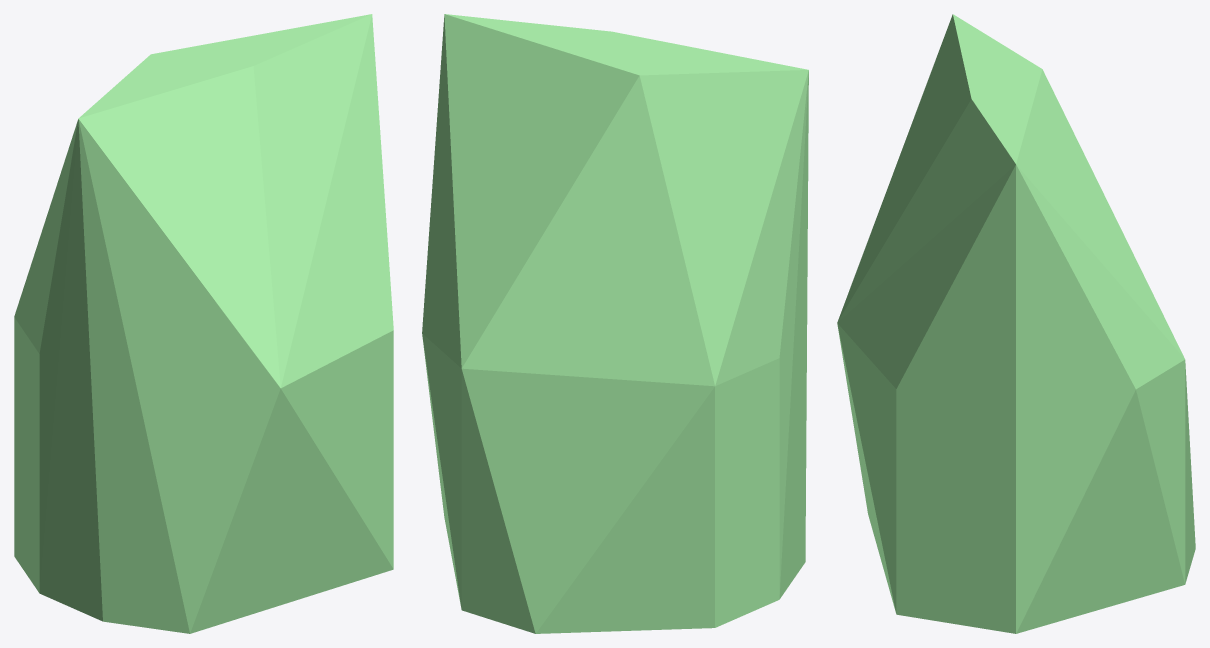
The model's file is dvkr_robot_Lp11_respondable_PSM2_coll_5.dae.
3 renders of one model, left to right at view 1: azimuth 30°, elevation 25°; view 2: azimuth 150°, elevation 25°; view 3: azimuth 270°, elevation 25°, orthographic. The views are drawn at different scales.
Parts seen in each view (by area): view 1: Node_0000023514CD6980; view 2: Node_0000023514CD6980; view 3: Node_0000023514CD6980.
Boxes of the visible parts, x1,y1,x2,y2 form: Node_0000023514CD6980: [14, 14, 393, 633]; Node_0000023514CD6980: [422, 14, 808, 633]; Node_0000023514CD6980: [837, 14, 1195, 633].
Size of the model in its own units: 0.0174 by 0.025 by 0.0173.
